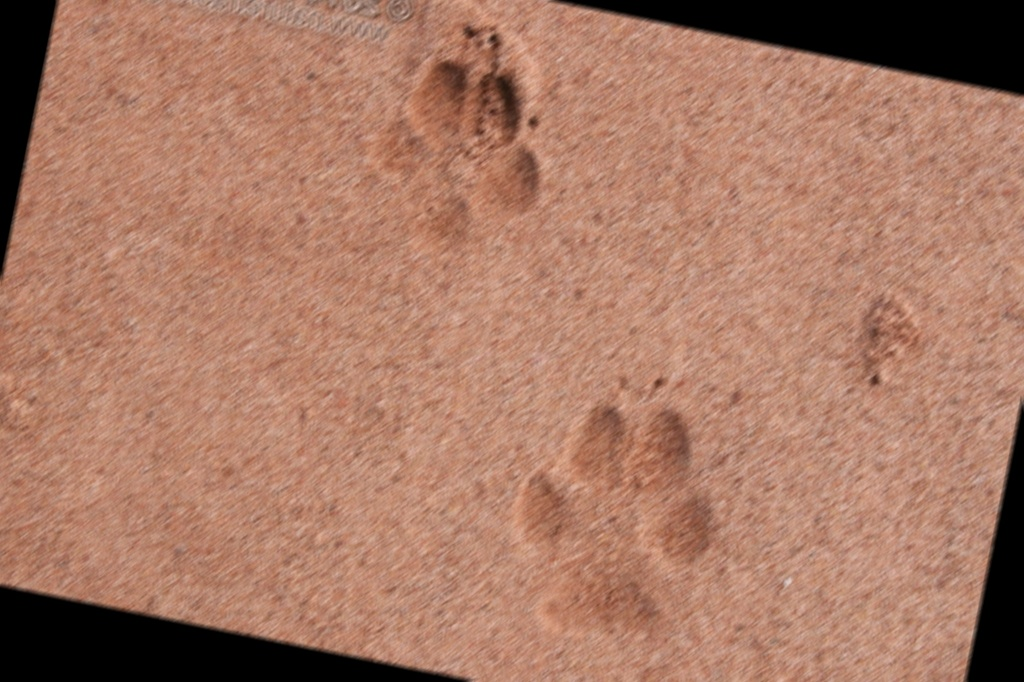coyote: (495, 383, 738, 658), (362, 44, 562, 270)
